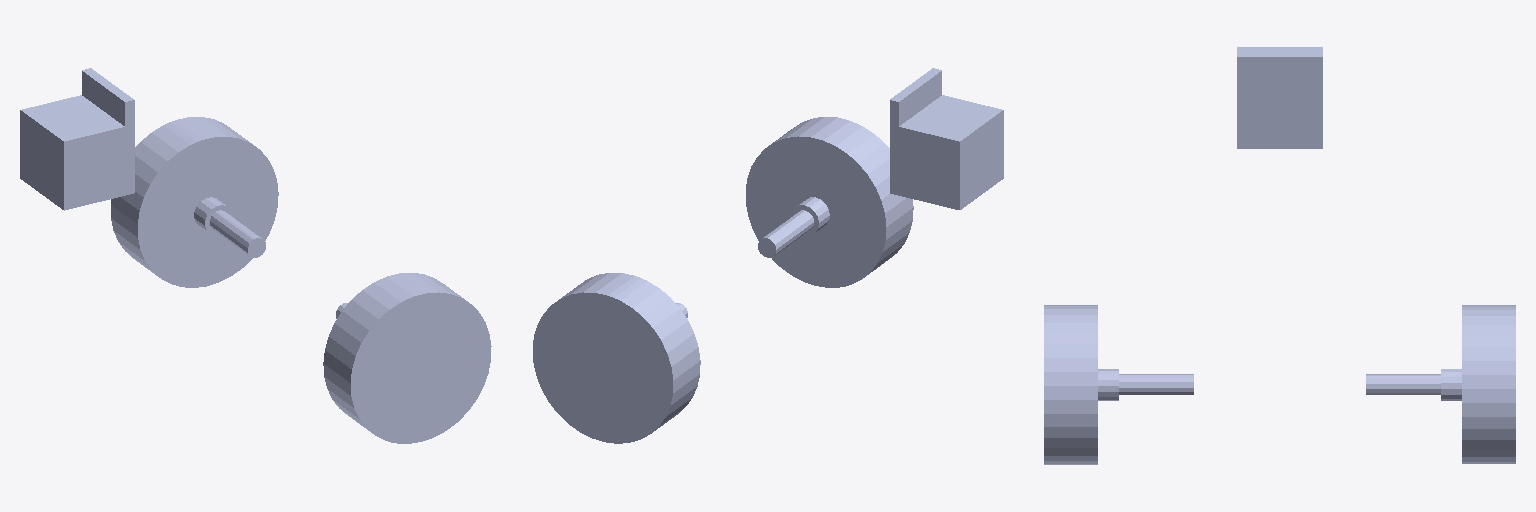
URDF robot description (test2_bot):
<?xml version="1.0" encoding="utf-8"?>
<!-- This URDF was automatically created by SolidWorks to URDF Exporter! Originally created by [author] ([email redacted]) 
     Commit Version: 1.6.0-4-g7f85cfe  Build Version: 1.6.7995.38578
     For more information, please see http://wiki.ros.org/sw_urdf_exporter -->
<robot
  name="test2_bot">
  <link
    name="base_footprint">
    <inertial>
      <origin
        xyz="0 0 0.0149999999999999"
        rpy="0 0 0" />
      <mass
        value="9.42477796076939E-05" />
      <inertia
        ixx="7.09214541547898E-09"
        ixy="4.49335171613886E-27"
        ixz="-6.31810279579998E-26"
        iyy="7.09214541547898E-09"
        iyz="3.33765753335012E-25"
        izz="4.71238898038469E-11" />
    </inertial>
    <visual>
      <origin
        xyz="0 0 0"
        rpy="0 0 0" />
      <geometry>
        <mesh
          filename="package://test2_bot/meshes/base_footprint.STL" />
      </geometry>
      <material
        name="">
        <color
          rgba="0.792156862745098 0.819607843137255 0.933333333333333 1" />
      </material>
    </visual>
    <collision>
      <origin
        xyz="0 0 0"
        rpy="0 0 0" />
      <geometry>
        <mesh
          filename="package://test2_bot/meshes/base_footprint.STL" />
      </geometry>
    </collision>
  </link>

  <link
    name="base_link">
    <inertial>
      <origin
        xyz="-0.188789367124556 -0.00233662272062585 -0.0948005465329549"
        rpy="0 0 0" />
      <mass
        value="9.69088504514813" />
      <inertia
        ixx="0.258417973471307"
        ixy="0.0129971204834088"
        ixz="-0.197764695640452"
        iyy="0.867284062857697"
        iyz="-0.000466471967625234"
        izz="0.940382811687374" />
    </inertial>
    <visual>
      <origin
        xyz="0 0 0"
        rpy="0 0 0" />
      <geometry>
        <mesh
          filename="package://test2_bot/meshes/base_link.STL" />
      </geometry>
      <material
        name="">
        <color
          rgba="0.792156862745098 0.819607843137255 0.933333333333333 1" />
      </material>
    </visual>
    <collision>
      <origin
        xyz="0 0 0"
        rpy="0 0 0" />
      <geometry>
        <mesh
          filename="package://test2_bot/meshes/base_link.STL" />
      </geometry>
    </collision>
  </link>

  <joint
    name="base_joint"
    type="fixed">
    <origin
      xyz="0 0 0.237"
      rpy="0 0 0" />
    <parent
      link="base_footprint" />
    <child
      link="base_link" />
    <axis
      xyz="0 0 0" />
  </joint>

<gazebo reference="base_link">
  <disableFixedJointLumping>true</disableFixedJointLumping> 
  <preserveFixedJoint>true</preserveFixedJoint>
</gazebo>

  <link
    name="l_wheel_link">
    <inertial>
      <origin
        xyz="2.22044604925031E-16 0 0.0274508966695131"
        rpy="0 0 0" />
      <mass
        value="0.919701249338413" />
      <inertia
        ixx="0.00158993491700959"
        ixy="-1.59616906901295E-20"
        ixz="1.03640468293167E-20"
        iyy="0.00158993491700959"
        iyz="1.23805296699663E-20"
        izz="0.00248773886508438" />
    </inertial>
    <visual>
      <origin
        xyz="0 0 0"
        rpy="0 0 0" />
      <geometry>
        <mesh
          filename="package://test2_bot/meshes/l_wheel_link.STL" />
      </geometry>
      <material
        name="">
        <color
          rgba="0.792156862745098 0.819607843137255 0.933333333333333 1" />
      </material>
    </visual>
    <collision>
      <origin
        xyz="0 0 0"
        rpy="0 0 0" />
      <geometry>
        <mesh
          filename="package://test2_bot/meshes/l_wheel_link.STL" />
      </geometry>
    </collision>
  </link>

  <joint
    name="l_wheel_joint"
    type="continuous">
    <origin
      xyz="0 0.221 -0.162"
      rpy="1.5708 0 0" />
    <parent
      link="base_link" />
    <child
      link="l_wheel_link" />
    <axis
      xyz="0 0 1" />
  </joint>

  <link
    name="r_wheel_link">
    <inertial>
      <origin
        xyz="2.22044604925031E-16 2.22044604925031E-16 -0.0274508966695133"
        rpy="0 0 0" />
      <mass
        value="0.919701249338413" />
      <inertia
        ixx="0.0015899349170096"
        ixy="-1.03193262957828E-19"
        ixz="-2.31300660409568E-22"
        iyy="0.00158993491700959"
        iyz="-1.07341678411212E-19"
        izz="0.00248773886508438" />
    </inertial>
    <visual>
      <origin
        xyz="0 0 0"
        rpy="0 0 0" />
      <geometry>
        <mesh
          filename="package://test2_bot/meshes/r_wheel_link.STL" />
      </geometry>
      <material
        name="">
        <color
          rgba="0.792156862745098 0.819607843137255 0.933333333333333 1" />
      </material>
    </visual>
    <collision>
      <origin
        xyz="0 0 0"
        rpy="0 0 0" />
      <geometry>
        <mesh
          filename="package://test2_bot/meshes/r_wheel_link.STL" />
      </geometry>
    </collision>
  </link>

  <joint
    name="r_wheel_joint"
    type="continuous">
    <origin
      xyz="0 -0.221 -0.162"
      rpy="1.5708 0 0" />
    <parent
      link="base_link" />
    <child
      link="r_wheel_link" />
    <axis
      xyz="0 0 1" />
  </joint>

  <link
    name="laser_link">
    <inertial>
      <origin
        xyz="6.66133814775094E-16 0 -0.0395000000000001"
        rpy="0 0 0" />
      <mass
        value="0.39709731141375" />
      <inertia
        ixx="0.000365362617943268"
        ixy="4.15988159834906E-51"
        ixz="-1.21245706409418E-36"
        iyy="0.000365362617943268"
        iyz="6.46109837352292E-20"
        izz="0.000317677849131001" />
    </inertial>
    <visual>
      <origin
        xyz="0 0 0"
        rpy="0 0 0" />
      <geometry>
        <mesh
          filename="package://test2_bot/meshes/laser_link.STL" />
      </geometry>
      <material
        name="">
        <color
          rgba="0.792156862745098 0.819607843137255 0.933333333333333 1" />
      </material>
    </visual>
    <collision>
      <origin
        xyz="0 0 0"
        rpy="0 0 0" />
      <geometry>
        <mesh
          filename="package://test2_bot/meshes/laser_link.STL" />
      </geometry>
    </collision>
  </link>

  <joint
    name="laser_joint"
    type="fixed">
    <origin
      xyz="0.33 -0.22 -0.065"
      rpy="0 0 0" />
    <parent
      link="base_link" />
    <child
      link="laser_link" />
    <axis
      xyz="0 0 0" />
  </joint>

<gazebo reference="laser_joint">
  <disableFixedJointLumping>true</disableFixedJointLumping> 
  <preserveFixedJoint>true</preserveFixedJoint>
</gazebo>

  <link
    name="sick_link">
    <inertial>
      <origin
        xyz="-0.0389772727272726 0 0.00215909090909072"
        rpy="0 0 0" />
      <mass
        value="0.439999999999999" />
      <inertia
        ixx="0.000450282196969695"
        ixy="-2.67057753333658E-20"
        ixz="2.94715909090908E-05"
        iyy="0.000432821969696968"
        iyz="8.33858761481299E-21"
        izz="0.000451873106060605" />
    </inertial>
    <visual>
      <origin
        xyz="0 0 0"
        rpy="0 0 0" />
      <geometry>
        <mesh
          filename="package://test2_bot/meshes/sick_link.STL" />
      </geometry>
      <material
        name="">
        <color
          rgba="0.792156862745098 0.819607843137255 0.933333333333333 1" />
      </material>
    </visual>
    <collision>
      <origin
        xyz="0 0 0"
        rpy="0 0 0" />
      <geometry>
        <mesh
          filename="package://test2_bot/meshes/sick_link.STL" />
      </geometry>
    </collision>
  </link>
  
  <joint
    name="sick_joint"
    type="fixed">
    <origin
      xyz="-0.275 0 0.024"
      rpy="0 0 3.1416" />
    <parent
      link="base_link" />
    <child
      link="sick_link" />
    <axis
      xyz="0 0 0" />
  </joint>

  <gazebo reference="sick_joint">
  <disableFixedJointLumping>true</disableFixedJointLumping> 
  <preserveFixedJoint>true</preserveFixedJoint>
</gazebo>


</robot>

--- Render facts (derived) ---
3 views of the same robot in one strip: view 1: azimuth 30°, elevation 25°; view 2: azimuth 150°, elevation 25°; view 3: azimuth 270°, elevation 25° (orthographic).
Model test2_bot with 6 links and 5 joints (2 continuous, 3 fixed), rooted at base_footprint, posed all joints at 0.
Links seen in each view (by area): view 1: r_wheel_link, l_wheel_link, sick_link; view 2: l_wheel_link, r_wheel_link, sick_link; view 3: r_wheel_link, l_wheel_link, sick_link.
Link boxes in pixels (<box>): r_wheel_link: <box>323,273,491,443</box>; l_wheel_link: <box>111,117,278,287</box>; sick_link: <box>20,68,134,210</box>; l_wheel_link: <box>533,273,700,443</box>; r_wheel_link: <box>746,117,913,287</box>; sick_link: <box>890,68,1003,209</box>; r_wheel_link: <box>1044,305,1193,464</box>; l_wheel_link: <box>1366,305,1515,463</box>; sick_link: <box>1237,47,1322,148</box>.
Size in the robot's own frame: 0.35 by 0.442 by 0.321 metres.
Meshes: 6 distinct files referenced, 3 mesh visuals loaded (3 binary STL); not drawn: 3 (reference not matched to a file when rendering).